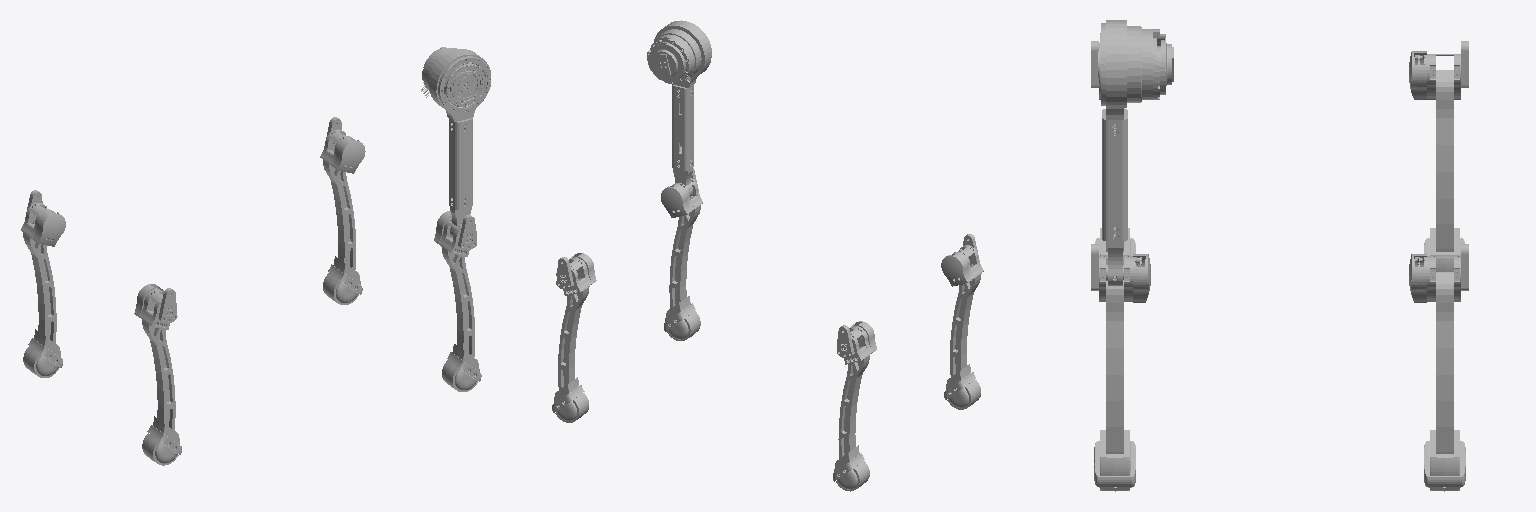
The robot description file, URDF, robot "PONGBOT_Q_V1.5":
<?xml version="1.0" encoding="utf-8"?>
<!-- This URDF was automatically created by SolidWorks to URDF Exporter! Originally created by [author] ([email redacted]) 
     Commit Version: 1.6.0-4-g7f85cfe  Build Version: 1.6.7995.38578
     For more information, please see http://wiki.ros.org/sw_urdf_exporter -->
<robot
  name="PONGBOT_Q_V1.5">
  <link
    name="BODY">
    <inertial>
      <origin
        xyz="0.002179 0.000577 -0.002462"
        rpy="0 0 0" />
      <mass
        value="20.278572" />
      <inertia
        ixx="0.152802"
        ixy="-0.002593"
        ixz="0.000614"
        iyy="0.862782"
        iyz="0.000125"
        izz="0.960469" />
    </inertial>
    <visual>
      <origin
        xyz="0 0 0"
        rpy="0 0 0" />
      <geometry>
        <mesh
          filename="package://PONGBOT_Q_V1.5/meshes/BODY.STL" />
      </geometry>
      <material
        name="">
        <color
          rgba="0.75294 0.75294 0.75294 1" />
      </material>
    </visual>
    <collision>
      <origin
        xyz="0 0 0"
        rpy="0 0 0" />
      <geometry>
        <mesh
          filename="package://PONGBOT_Q_V1.5/meshes/BODY.STL" />
      </geometry>
    </collision>
  </link>
  <link
    name="RL_HIP">
    <inertial>
      <origin
        xyz="-0.003152 -0.005237 -0.000219"
        rpy="0 0 0" />
      <mass
        value="1.587072" />
      <inertia
        ixx="0.001331"
        ixy="-0.000023"
        ixz="0.000010"
        iyy="0.001936"
        iyz="0.000021"
        izz="0.001589" />
    </inertial>
    <visual>
      <origin
        xyz="0 0 0"
        rpy="0 0 0" />
      <geometry>
        <mesh
          filename="package://PONGBOT_Q_V1.5/meshes/RL_HIP.STL" />
      </geometry>
      <material
        name="">
        <color
          rgba="0.75294 0.75294 0.75294 1" />
      </material>
    </visual>
    <collision>
      <origin
        xyz="0 0 0"
        rpy="0 0 0" />
      <geometry>
        <mesh
          filename="package://PONGBOT_Q_V1.5/meshes/RL_HIP.STL" />
      </geometry>
    </collision>
  </link>
  <joint
    name="1_RL_HR_JOINT"
    type="continuous">
    <origin
      xyz="-0.31804 0.1138 0"
      rpy="0 0 0" />
    <parent
      link="BODY" />
    <child
      link="RL_HIP" />
    <axis
      xyz="1 0 0" />
  </joint>
  <link
    name="RL_THIGH">
    <inertial>
      <origin
        xyz="0.000189 -0.010257 -0.038433"
        rpy="0 0 0" />
      <mass
        value="3.32" />
      <inertia
        ixx="0.028079"
        ixy="-0.000023"
        ixz="0.000016"
        iyy="0.028442"
        iyz="-0.001256"
        izz="0.003743" />
    </inertial>
    <visual>
      <origin
        xyz="0 0 0"
        rpy="0 0 0" />
      <geometry>
        <mesh
          filename="package://PONGBOT_Q_V1.5/meshes/RL_THIGH.STL" />
      </geometry>
      <material
        name="">
        <color
          rgba="0.75294 0.75294 0.75294 1" />
      </material>
    </visual>
    <collision>
      <origin
        xyz="0 0 0"
        rpy="0 0 0" />
      <geometry>
        <mesh
          filename="package://PONGBOT_Q_V1.5/meshes/RL_THIGH.STL" />
      </geometry>
    </collision>
  </link>
  <joint
    name="RL_HP_JOINT"
    type="continuous">
    <origin
      xyz="0 0.105 0"
      rpy="0 0 0" />
    <parent
      link="RL_HIP" />
    <child
      link="RL_THIGH" />
    <axis
      xyz="0 1 0" />
  </joint>
  <link
    name="RL_CALF">
    <inertial>
      <origin
        xyz="-0.006419 0.003337 -0.081628"
        rpy="0 0 0" />
      <mass
        value="0.573349" />
      <inertia
        ixx="0.005477"
        ixy="0.000022"
        ixz="0.000090"
        iyy="0.005379"
        iyz="0.000190"
        izz="0.000247" />
    </inertial>
    <visual>
      <origin
        xyz="0 0 0"
        rpy="0 0 0" />
      <geometry>
        <mesh
          filename="package://PONGBOT_Q_V1.5/meshes/RL_CALF.STL" />
      </geometry>
      <material
        name="">
        <color
          rgba="0.75294 0.75294 0.75294 1" />
      </material>
    </visual>
    <collision>
      <origin
        xyz="0 0 0"
        rpy="0 0 0" />
      <geometry>
        <mesh
          filename="package://PONGBOT_Q_V1.5/meshes/RL_CALF.STL" />
      </geometry>
    </collision>
  </link>
  <joint
    name="RL_KN_JOINT"
    type="continuous">
    <origin
      xyz="0 0 -0.305"
      rpy="0 0 0" />
    <parent
      link="RL_THIGH" />
    <child
      link="RL_CALF" />
    <axis
      xyz="0 1 0" />
  </joint>
  <link
    name="RL_TIP">
    <inertial>
      <origin
        xyz="-0.022333 -0.222632 0.003818"
        rpy="0 0 0" />
      <mass
        value="0.164603" />
      <inertia
        ixx="0.000088"
        ixy="0.000000"
        ixz="0.000001"
        iyy="0.000086"
        iyz="0.000000"
        izz="0.000073" />
    </inertial>
    <visual>
      <origin
        xyz="0 0 0"
        rpy="0 0 0" />
      <geometry>
        <mesh
          filename="package://PONGBOT_Q_V1.5/meshes/RL_TIP.STL" />
      </geometry>
      <material
        name="">
        <color
          rgba="0.75294 0.75294 0.75294 1" />
      </material>
    </visual>
    <collision>
      <origin
        xyz="0 0 0"
        rpy="0 0 0" />
      <geometry>
        <mesh
          filename="package://PONGBOT_Q_V1.5/meshes/RL_TIP.STL" />
      </geometry>
    </collision>
  </link>
  <joint
    name="RL_TIP_JOINT"
    type="fixed">
    <origin
      xyz="0 0 -0.28816"
      rpy="0 0 0" />
    <parent
      link="RL_CALF" />
    <child
      link="RL_TIP" />
    <axis
      xyz="0 0 0" />
  </joint>
  <link
    name="RR_HIP">
    <inertial>
      <origin
        xyz="-0.003152 0.005237 -0.000219"
        rpy="0 0 0" />
      <mass
        value="1.587072" />
      <inertia
        ixx="0.001331"
        ixy="0.000023"
        ixz="-0.000010"
        iyy="0.001936"
        iyz="0.000021"
        izz="0.001589" />
    </inertial>
    <visual>
      <origin
        xyz="0 0 0"
        rpy="0 0 0" />
      <geometry>
        <mesh
          filename="package://PONGBOT_Q_V1.5/meshes/RR_HIP.STL" />
      </geometry>
      <material
        name="">
        <color
          rgba="0.75294 0.75294 0.75294 1" />
      </material>
    </visual>
    <collision>
      <origin
        xyz="0 0 0"
        rpy="0 0 0" />
      <geometry>
        <mesh
          filename="package://PONGBOT_Q_V1.5/meshes/RR_HIP.STL" />
      </geometry>
    </collision>
  </link>
  <joint
    name="2_RR_HR_JOINT"
    type="continuous">
    <origin
      xyz="-0.31804 -0.1138 0"
      rpy="0 0 0" />
    <parent
      link="BODY" />
    <child
      link="RR_HIP" />
    <axis
      xyz="1 0 0" />
  </joint>
  <link
    name="RR_THIGH">
    <inertial>
      <origin
        xyz="-0.000189 0.010257 -0.038433"
        rpy="0 0 0" />
      <mass
        value="3.32" />
      <inertia
        ixx="0.028079"
        ixy="-0.000023"
        ixz="-0.000016"
        iyy="0.028442"
        iyz="0.001256"
        izz="0.003743" />
    </inertial>
    <visual>
      <origin
        xyz="0 0 0"
        rpy="0 0 0" />
      <geometry>
        <mesh
          filename="package://PONGBOT_Q_V1.5/meshes/RR_THIGH.STL" />
      </geometry>
      <material
        name="">
        <color
          rgba="0.75294 0.75294 0.75294 1" />
      </material>
    </visual>
    <collision>
      <origin
        xyz="0 0 0"
        rpy="0 0 0" />
      <geometry>
        <mesh
          filename="package://PONGBOT_Q_V1.5/meshes/RR_THIGH.STL" />
      </geometry>
    </collision>
  </link>
  <joint
    name="RR_HP_JOINT"
    type="continuous">
    <origin
      xyz="0 -0.105 0"
      rpy="0 0 0" />
    <parent
      link="RR_HIP" />
    <child
      link="RR_THIGH" />
    <axis
      xyz="0 1 0" />
  </joint>
  <link
    name="RR_CALF">
    <inertial>
      <origin
        xyz="-0.006419 -0.003337 -0.081628"
        rpy="0 0 0" />
      <mass
        value="0.573349" />
      <inertia
        ixx="0.005477"
        ixy="-0.000022"
        ixz="0.000090"
        iyy="0.005379"
        iyz="-0.000190"
        izz="0.000247" />
    </inertial>
    <visual>
      <origin
        xyz="0 0 0"
        rpy="0 0 0" />
      <geometry>
        <mesh
          filename="package://PONGBOT_Q_V1.5/meshes/RR_CALF.STL" />
      </geometry>
      <material
        name="">
        <color
          rgba="0.75294 0.75294 0.75294 1" />
      </material>
    </visual>
    <collision>
      <origin
        xyz="0 0 0"
        rpy="0 0 0" />
      <geometry>
        <mesh
          filename="package://PONGBOT_Q_V1.5/meshes/RR_CALF.STL" />
      </geometry>
    </collision>
  </link>
  <joint
    name="RR_KN_JOINT"
    type="continuous">
    <origin
      xyz="0 0 -0.305"
      rpy="0 0 0" />
    <parent
      link="RR_THIGH" />
    <child
      link="RR_CALF" />
    <axis
      xyz="0 1 0" />
  </joint>
  <link
    name="RR_TIP">
    <inertial>
      <origin
        xyz="-0.022333 0.222632 0.003818"
        rpy="0 0 0" />
      <mass
        value="0.164603" />
      <inertia
        ixx="0.000088"
        ixy="0.000000"
        ixz="0.000001"
        iyy="0.000086"
        iyz="0.000000"
        izz="0.000073" />
    </inertial>
    <visual>
      <origin
        xyz="0 0 0"
        rpy="0 0 0" />
      <geometry>
        <mesh
          filename="package://PONGBOT_Q_V1.5/meshes/RR_TIP.STL" />
      </geometry>
      <material
        name="">
        <color
          rgba="0.75294 0.75294 0.75294 1" />
      </material>
    </visual>
    <collision>
      <origin
        xyz="0 0 0"
        rpy="0 0 0" />
      <geometry>
        <mesh
          filename="package://PONGBOT_Q_V1.5/meshes/RR_TIP.STL" />
      </geometry>
    </collision>
  </link>
  <joint
    name="RR_TIP_JOINT"
    type="fixed">
    <origin
      xyz="0 0 -0.28816"
      rpy="0 0 0" />
    <parent
      link="RR_CALF" />
    <child
      link="RR_TIP" />
    <axis
      xyz="0 0 0" />
  </joint>
  <link
    name="FL_HIP">
    <inertial>
      <origin
        xyz="0.003152 -0.005237 -0.000219"
        rpy="0 0 0" />
      <mass
        value="1.587072" />
      <inertia
        ixx="0.001331"
        ixy="0.000023"
        ixz="0.000010"
        iyy="0.001936"
        iyz="-0.000021"
        izz="0.001589" />
    </inertial>
    <visual>
      <origin
        xyz="0 0 0"
        rpy="0 0 0" />
      <geometry>
        <mesh
          filename="package://PONGBOT_Q_V1.5/meshes/FL_HIP.STL" />
      </geometry>
      <material
        name="">
        <color
          rgba="0.75294 0.75294 0.75294 1" />
      </material>
    </visual>
    <collision>
      <origin
        xyz="0 0 0"
        rpy="0 0 0" />
      <geometry>
        <mesh
          filename="package://PONGBOT_Q_V1.5/meshes/FL_HIP.STL" />
      </geometry>
    </collision>
  </link>
  <joint
    name="3_FL_HR_JOINT"
    type="continuous">
    <origin
      xyz="0.31804 0.1138 0"
      rpy="0 0 0" />
    <parent
      link="BODY" />
    <child
      link="FL_HIP" />
    <axis
      xyz="1 0 0" />
  </joint>
  <link
    name="FL_THIGH">
    <inertial>
      <origin
        xyz="0.000189 -0.010257 -0.038433"
        rpy="0 0 0" />
      <mass
        value="3.32" />
      <inertia
        ixx="0.028079"
        ixy="-0.000023"
        ixz="0.000016"
        iyy="0.028442"
        iyz="-0.001256"
        izz="0.003743" />
    </inertial>
    <visual>
      <origin
        xyz="0 0 0"
        rpy="0 0 0" />
      <geometry>
        <mesh
          filename="package://PONGBOT_Q_V1.5/meshes/FL_THIGH.STL" />
      </geometry>
      <material
        name="">
        <color
          rgba="0.75294 0.75294 0.75294 1" />
      </material>
    </visual>
    <collision>
      <origin
        xyz="0 0 0"
        rpy="0 0 0" />
      <geometry>
        <mesh
          filename="package://PONGBOT_Q_V1.5/meshes/FL_THIGH.STL" />
      </geometry>
    </collision>
  </link>
  <joint
    name="FL_HP_JOINT"
    type="continuous">
    <origin
      xyz="0 0.105 0"
      rpy="0 0 0" />
    <parent
      link="FL_HIP" />
    <child
      link="FL_THIGH" />
    <axis
      xyz="0 1 0" />
  </joint>
  <link
    name="FL_CALF">
    <inertial>
      <origin
        xyz="-0.006419 0.003337 -0.081628"
        rpy="0 0 0" />
      <mass
        value="0.573" />
      <inertia
        ixx="0.005477"
        ixy="0.000022"
        ixz="0.000090"
        iyy="0.005379"
        iyz="0.000190"
        izz="0.000247" />
    </inertial>
    <visual>
      <origin
        xyz="0 0 0"
        rpy="0 0 0" />
      <geometry>
        <mesh
          filename="package://PONGBOT_Q_V1.5/meshes/FL_CALF.STL" />
      </geometry>
      <material
        name="">
        <color
          rgba="0.75294 0.75294 0.75294 1" />
      </material>
    </visual>
    <collision>
      <origin
        xyz="0 0 0"
        rpy="0 0 0" />
      <geometry>
        <mesh
          filename="package://PONGBOT_Q_V1.5/meshes/FL_CALF.STL" />
      </geometry>
    </collision>
  </link>
  <joint
    name="FL_KN_JOINT"
    type="continuous">
    <origin
      xyz="0 0 -0.305"
      rpy="0 0 0" />
    <parent
      link="FL_THIGH" />
    <child
      link="FL_CALF" />
    <axis
      xyz="0 1 0" />
  </joint>
  <link
    name="FL_TIP">
    <inertial>
      <origin
        xyz="-0.022333 -0.222632 0.003818"
        rpy="0 0 0" />
      <mass
        value="0.164603" />
      <inertia
        ixx="0.000088"
        ixy="0.000000"
        ixz="0.000001"
        iyy="0.000086"
        iyz="0.000000"
        izz="0.000073" />
    </inertial>
    <visual>
      <origin
        xyz="0 0 0"
        rpy="0 0 0" />
      <geometry>
        <mesh
          filename="package://PONGBOT_Q_V1.5/meshes/FL_TIP.STL" />
      </geometry>
      <material
        name="">
        <color
          rgba="0.75294 0.75294 0.75294 1" />
      </material>
    </visual>
    <collision>
      <origin
        xyz="0 0 0"
        rpy="0 0 0" />
      <geometry>
        <mesh
          filename="package://PONGBOT_Q_V1.5/meshes/FL_TIP.STL" />
      </geometry>
    </collision>
  </link>
  <joint
    name="FL_TIP_JOINT"
    type="fixed">
    <origin
      xyz="0 0 -0.28816"
      rpy="0 0 0" />
    <parent
      link="FL_CALF" />
    <child
      link="FL_TIP" />
    <axis
      xyz="0 0 0" />
  </joint>
  <link
    name="FR_HIP">
    <inertial>
      <origin
        xyz="0.003152 0.005237 -0.000219"
        rpy="0 0 0" />
      <mass
        value="1.587072" />
      <inertia
        ixx="0.001331"
        ixy="-0.000023"
        ixz="-0.000010"
        iyy="0.001936"
        iyz="-0.000021"
        izz="0.001589" />
    </inertial>
    <visual>
      <origin
        xyz="0 0 0"
        rpy="0 0 0" />
      <geometry>
        <mesh
          filename="package://PONGBOT_Q_V1.5/meshes/FR_HIP.STL" />
      </geometry>
      <material
        name="">
        <color
          rgba="0.75294 0.75294 0.75294 1" />
      </material>
    </visual>
    <collision>
      <origin
        xyz="0 0 0"
        rpy="0 0 0" />
      <geometry>
        <mesh
          filename="package://PONGBOT_Q_V1.5/meshes/FR_HIP.STL" />
      </geometry>
    </collision>
  </link>
  <joint
    name="4_FR_HR_JOINT"
    type="continuous">
    <origin
      xyz="0.31804 -0.1138 0"
      rpy="0 0 0" />
    <parent
      link="BODY" />
    <child
      link="FR_HIP" />
    <axis
      xyz="1 0 0" />
  </joint>
  <link
    name="FR_THIGH">
    <inertial>
      <origin
        xyz="-0.000189 0.010257 -0.038433"
        rpy="0 0 0" />
      <mass
        value="3.32" />
      <inertia
        ixx="0.028079"
        ixy="-0.000023"
        ixz="-0.000016"
        iyy="0.028442"
        iyz="0.001256"
        izz="0.003743" />
    </inertial>
    <visual>
      <origin
        xyz="0 0 0"
        rpy="0 0 0" />
      <geometry>
        <mesh
          filename="package://PONGBOT_Q_V1.5/meshes/FR_THIGH.STL" />
      </geometry>
      <material
        name="">
        <color
          rgba="0.75294 0.75294 0.75294 1" />
      </material>
    </visual>
    <collision>
      <origin
        xyz="0 0 0"
        rpy="0 0 0" />
      <geometry>
        <mesh
          filename="package://PONGBOT_Q_V1.5/meshes/FR_THIGH.STL" />
      </geometry>
    </collision>
  </link>
  <joint
    name="FR_HP_JOINT"
    type="continuous">
    <origin
      xyz="0 -0.105 0"
      rpy="0 0 0" />
    <parent
      link="FR_HIP" />
    <child
      link="FR_THIGH" />
    <axis
      xyz="0 1 0" />
  </joint>
  <link
    name="FR_CALF">
    <inertial>
      <origin
        xyz="-0.006419 -0.003337 -0.081628"
        rpy="0 0 0" />
      <mass
        value="0.573349" />
      <inertia
        ixx="0.005477"
        ixy="-0.000022"
        ixz="0.000090"
        iyy="0.005379"
        iyz="-0.000190"
        izz="0.000247" />
    </inertial>
    <visual>
      <origin
        xyz="0 0 0"
        rpy="0 0 0" />
      <geometry>
        <mesh
          filename="package://PONGBOT_Q_V1.5/meshes/FR_CALF.STL" />
      </geometry>
      <material
        name="">
        <color
          rgba="0.75294 0.75294 0.75294 1" />
      </material>
    </visual>
    <collision>
      <origin
        xyz="0 0 0"
        rpy="0 0 0" />
      <geometry>
        <mesh
          filename="package://PONGBOT_Q_V1.5/meshes/FR_CALF.STL" />
      </geometry>
    </collision>
  </link>
  <joint
    name="FR_KN_JOINT"
    type="continuous">
    <origin
      xyz="0 0 -0.305"
      rpy="0 0 0" />
    <parent
      link="FR_THIGH" />
    <child
      link="FR_CALF" />
    <axis
      xyz="0 1 0" />
  </joint>
  <link
    name="FR_TIP">
    <inertial>
      <origin
        xyz="-0.022333 0.222632 0.003818"
        rpy="0 0 0" />
      <mass
        value="0.164603" />
      <inertia
        ixx="0.000088"
        ixy="0.000000"
        ixz="0.000001"
        iyy="0.000086"
        iyz="0.000000"
        izz="0.000073" />
    </inertial>
    <visual>
      <origin
        xyz="0 0 0"
        rpy="0 0 0" />
      <geometry>
        <mesh
          filename="package://PONGBOT_Q_V1.5/meshes/FR_TIP.STL" />
      </geometry>
      <material
        name="">
        <color
          rgba="0.75294 0.75294 0.75294 1" />
      </material>
    </visual>
    <collision>
      <origin
        xyz="0 0 0"
        rpy="0 0 0" />
      <geometry>
        <mesh
          filename="package://PONGBOT_Q_V1.5/meshes/FR_TIP.STL" />
      </geometry>
    </collision>
  </link>
  <joint
    name="FR_TIP_JOINT"
    type="fixed">
    <origin
      xyz="0 0 -0.28816"
      rpy="0 0 0" />
    <parent
      link="FR_CALF" />
    <child
      link="FR_TIP" />
    <axis
      xyz="0 0 0" />
  </joint>
</robot>

--- Facts derived from the render (not from the file) ---
Views: 3 orthographic renders of the robot side by side, from view 1: azimuth 30°, elevation 25°; view 2: azimuth 150°, elevation 25°; view 3: azimuth 270°, elevation 25°.
Model PONGBOT_Q_V1.5 with 17 links and 16 joints (12 continuous, 4 fixed), rooted at BODY, posed all joints at 0.
Visible links, largest first — view 1: FR_THIGH, RR_CALF, RL_CALF, FL_CALF, FR_CALF, RR_TIP, RL_TIP, FL_TIP, FR_TIP; view 2: FR_THIGH, RL_CALF, FL_CALF, RR_CALF, FR_CALF, RL_TIP, FR_TIP, FL_TIP, RR_TIP; view 3: FR_THIGH, RL_CALF, FL_CALF, FR_CALF, FL_TIP, FR_TIP, RL_TIP.
Boxes of the visible links, x1,y1,x2,y2 form: FR_THIGH: [421, 47, 490, 237]; RR_CALF: [134, 284, 177, 430]; RL_CALF: [21, 190, 65, 343]; FL_CALF: [320, 117, 365, 269]; FR_CALF: [434, 211, 476, 356]; RR_TIP: [142, 416, 181, 465]; RL_TIP: [23, 329, 62, 377]; FL_TIP: [323, 256, 362, 304]; FR_TIP: [442, 344, 481, 391]; FR_THIGH: [647, 20, 711, 196]; RL_CALF: [837, 321, 876, 458]; FL_CALF: [556, 253, 596, 389]; RR_CALF: [941, 234, 983, 376]; FR_CALF: [661, 168, 702, 308]; RL_TIP: [833, 445, 869, 491]; FR_TIP: [664, 296, 700, 340]; FL_TIP: [552, 377, 588, 422]; RR_TIP: [944, 364, 980, 409]; FR_THIGH: [1098, 20, 1173, 285]; RL_CALF: [1409, 41, 1468, 251]; FL_CALF: [1409, 244, 1468, 453]; FR_CALF: [1091, 244, 1150, 453]; FL_TIP: [1424, 430, 1465, 491]; FR_TIP: [1094, 430, 1135, 491]; RL_TIP: [1424, 228, 1464, 271].
Bounding box of the posed robot: 0.7284 × 0.5016 × 0.681 m (x, y, z).
Meshes: 17 distinct files referenced, 9 mesh visuals loaded (9 binary STL); not drawn: 8 (reference not matched to a file when rendering).